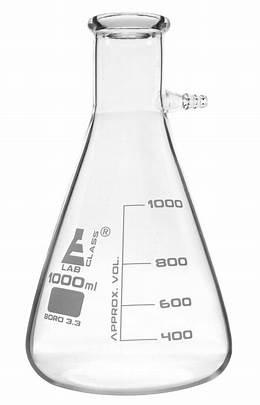Titrarion: (24, 4, 252, 393)
